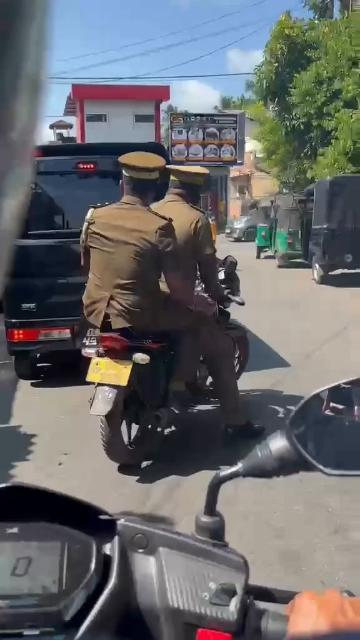no helmet: (111, 148, 165, 215), (169, 162, 214, 213)
